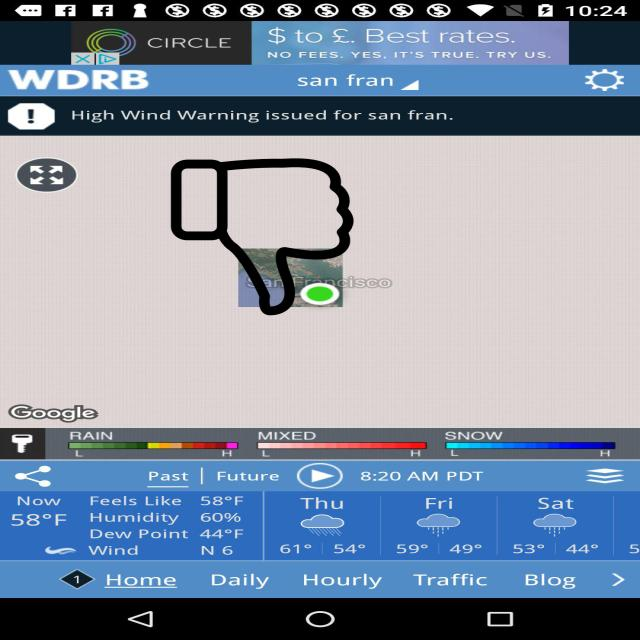obstruction: (168, 158, 356, 316)
